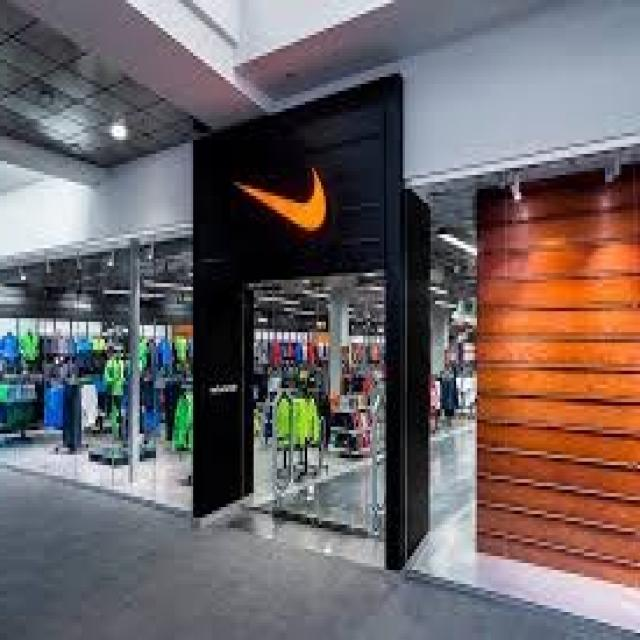nike: (232, 162, 330, 234)
